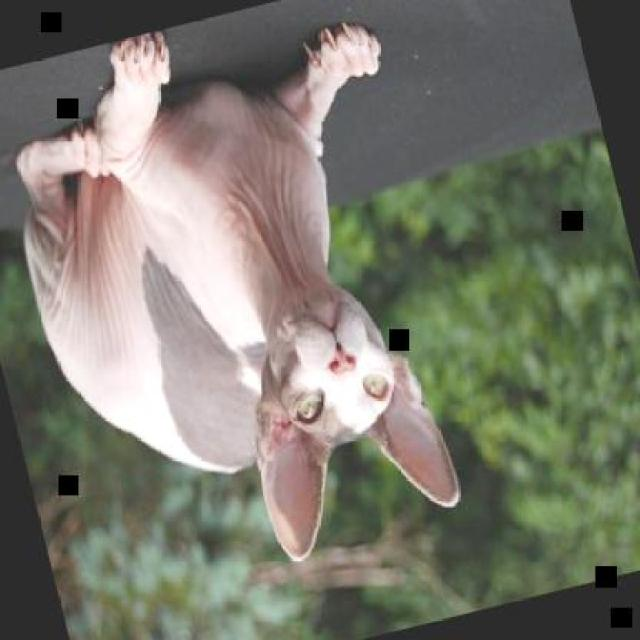cat: (0, 0, 498, 611)
